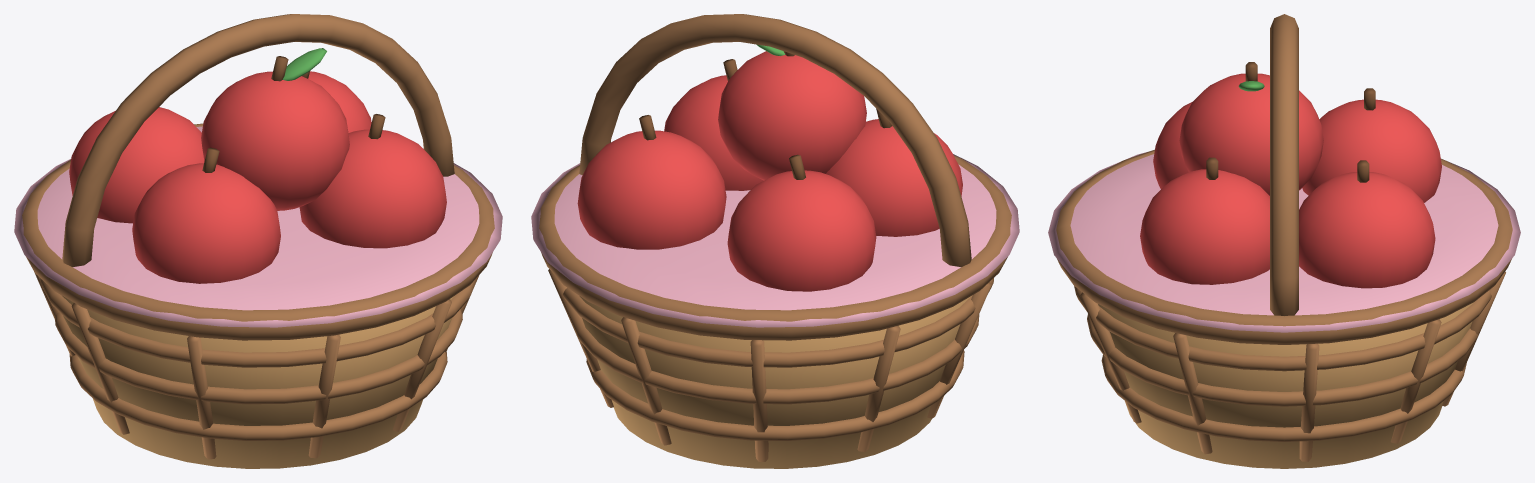
File: fruit-basket.glb
The picture shows the model from 3 angles, left to right: view 1: azimuth 30°, elevation 25°; view 2: azimuth 150°, elevation 25°; view 3: azimuth 270°, elevation 25°; orthographic projection. The views are drawn at different scales.
Parts seen in each view (by area): view 1: basket, fruits; view 2: basket, fruits; view 3: basket, fruits.
Part boxes in pixels (box(x1,y1,x2,y2)): basket: box(14, 14, 502, 468); fruits: box(69, 48, 446, 283); basket: box(531, 14, 1019, 468); fruits: box(577, 44, 962, 291); basket: box(1048, 14, 1520, 468); fruits: box(1140, 62, 1441, 288).
Bounding box in the file's own units: 0.72 × 0.617 × 0.72.
